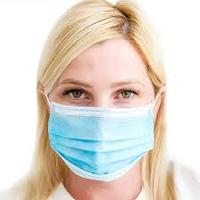flu mask: (46, 101, 159, 182)
